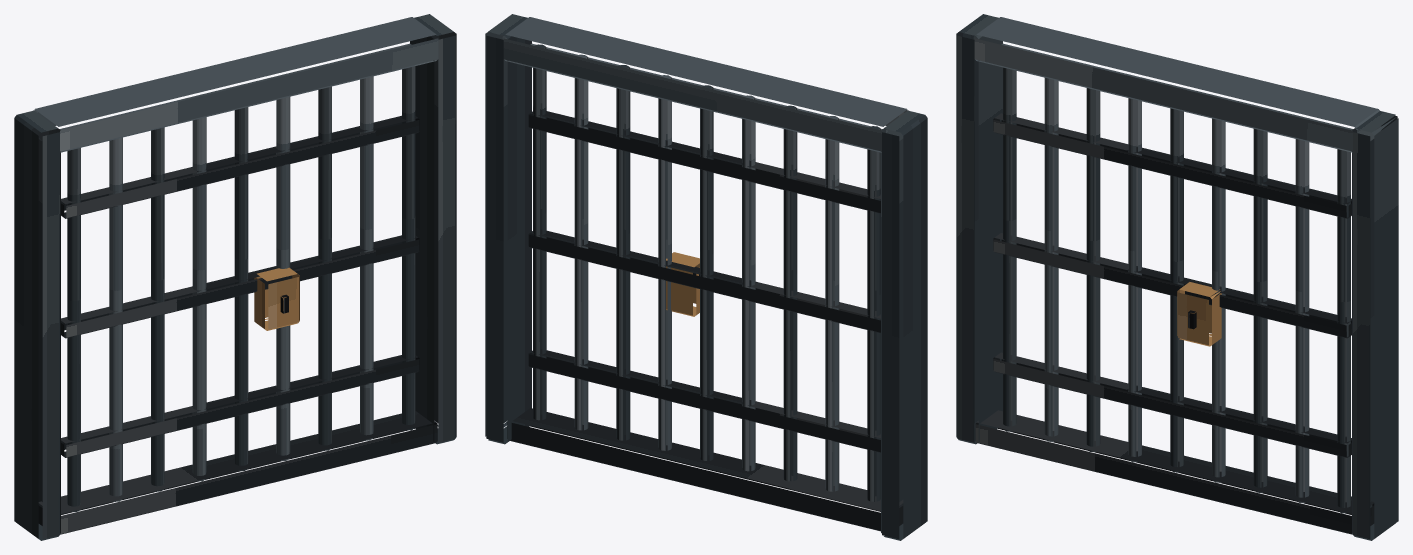
File: prison_cell_gate.glb
3 renders of one model, left to right at view 1: azimuth 30°, elevation 25°; view 2: azimuth 150°, elevation 25°; view 3: azimuth 330°, elevation 25°, orthographic.
Visible parts, largest first — view 1: StoneJambL, StoneLintel, StoneJambR, IronThreshold, CrossRail_2, CrossRail_0, CrossRail_1, GateBar_03, GateBar_04, GateBar_02, GateBar_07, GateBar_01 (+5 smaller); view 2: StoneJambL, StoneLintel, StoneJambR, IronThreshold, CrossRail_0, CrossRail_2, CrossRail_1, GateBar_02, GateBar_07, GateBar_01, GateBar_06, GateBar_03 (+5 smaller); view 3: StoneJambR, StoneLintel, StoneJambL, IronThreshold, CrossRail_2, CrossRail_0, CrossRail_1, GateBar_06, GateBar_01, GateBar_02, GateBar_07, GateBar_08 (+5 smaller).
Boxes of the visible parts, x1,y1,x2,y2 form: StoneJambL: [14, 110, 60, 540]; StoneLintel: [33, 17, 439, 152]; StoneJambR: [410, 14, 456, 444]; IronThreshold: [38, 411, 437, 534]; CrossRail_2: [61, 115, 419, 218]; CrossRail_0: [61, 355, 419, 457]; CrossRail_1: [61, 235, 419, 338]; GateBar_03: [192, 117, 206, 481]; GateBar_04: [234, 107, 248, 471]; GateBar_02: [151, 127, 164, 491]; GateBar_07: [360, 76, 373, 440]; GateBar_01: [109, 137, 122, 501]; StoneJambL: [881, 110, 927, 540]; StoneLintel: [502, 17, 908, 152]; StoneJambR: [485, 14, 531, 444]; IronThreshold: [507, 408, 903, 531]; CrossRail_0: [528, 349, 880, 452]; CrossRail_2: [528, 110, 880, 213]; CrossRail_1: [528, 229, 880, 333]; GateBar_02: [783, 105, 797, 481]; GateBar_07: [574, 54, 588, 430]; GateBar_01: [825, 116, 839, 491]; GateBar_06: [616, 65, 630, 440]; GateBar_03: [742, 95, 755, 471]; StoneJambR: [1352, 111, 1398, 540]; StoneLintel: [973, 17, 1381, 152]; StoneJambL: [956, 14, 1002, 444]; IronThreshold: [975, 410, 1374, 534]; CrossRail_2: [993, 113, 1351, 218]; CrossRail_0: [993, 352, 1351, 457]; CrossRail_1: [993, 233, 1351, 338]; GateBar_06: [1253, 129, 1267, 492]; GateBar_01: [1044, 78, 1058, 441]; GateBar_02: [1086, 88, 1100, 452]; GateBar_07: [1295, 139, 1309, 503]; GateBar_08: [1337, 149, 1350, 513].
Size of the model in its own units: 3 by 2.81 by 0.4025.
Materials: 2 (2 with a texture image).
